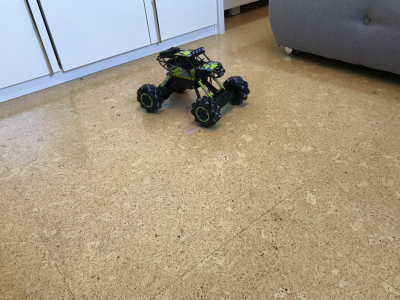remote control car: (132, 43, 251, 129)
